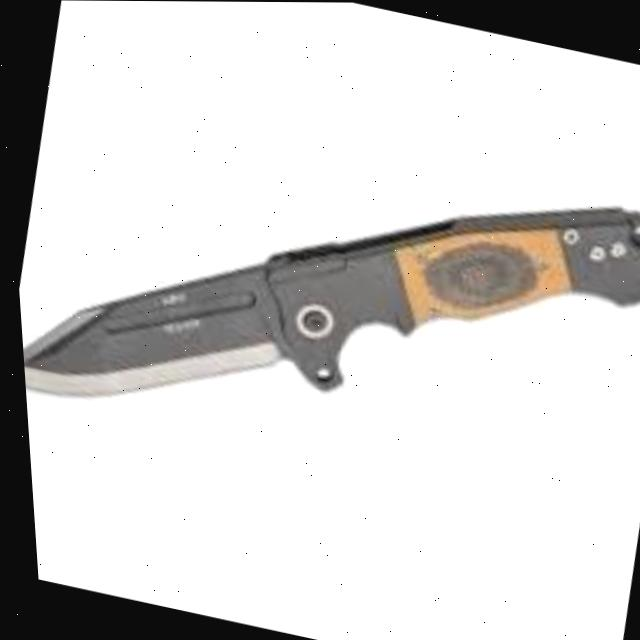Knife: (4, 78, 640, 519)
